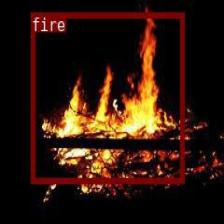fire: (30, 13, 184, 182)
